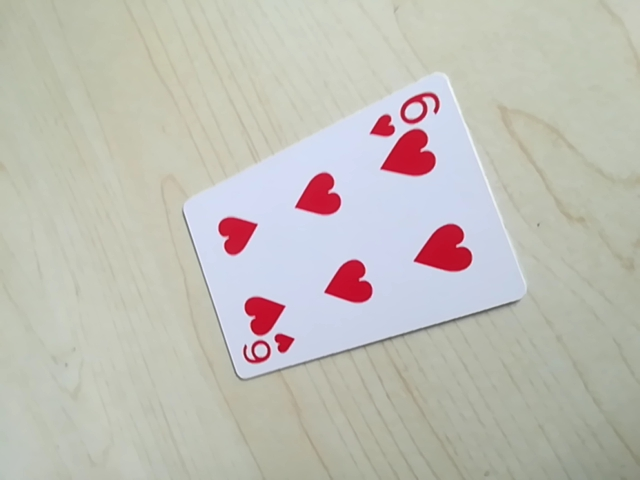hx 6: (367, 87, 444, 137), (237, 331, 299, 374)
